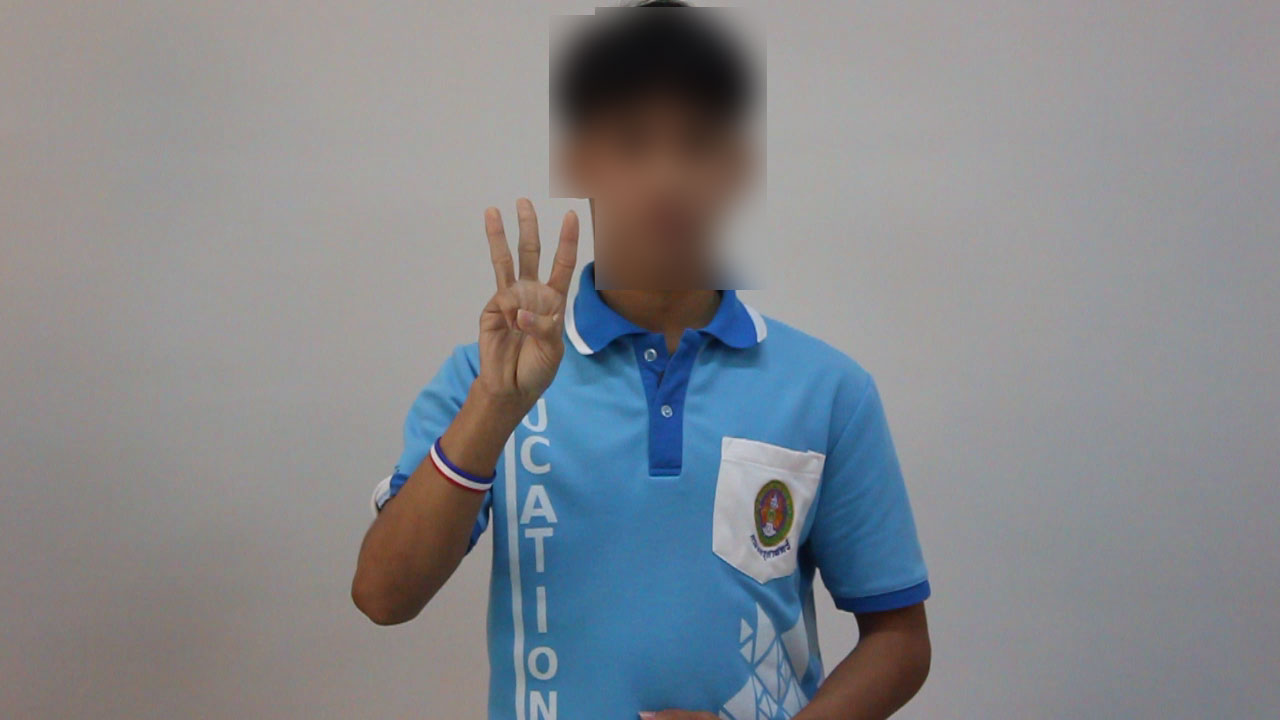wor: (470, 189, 585, 404)
